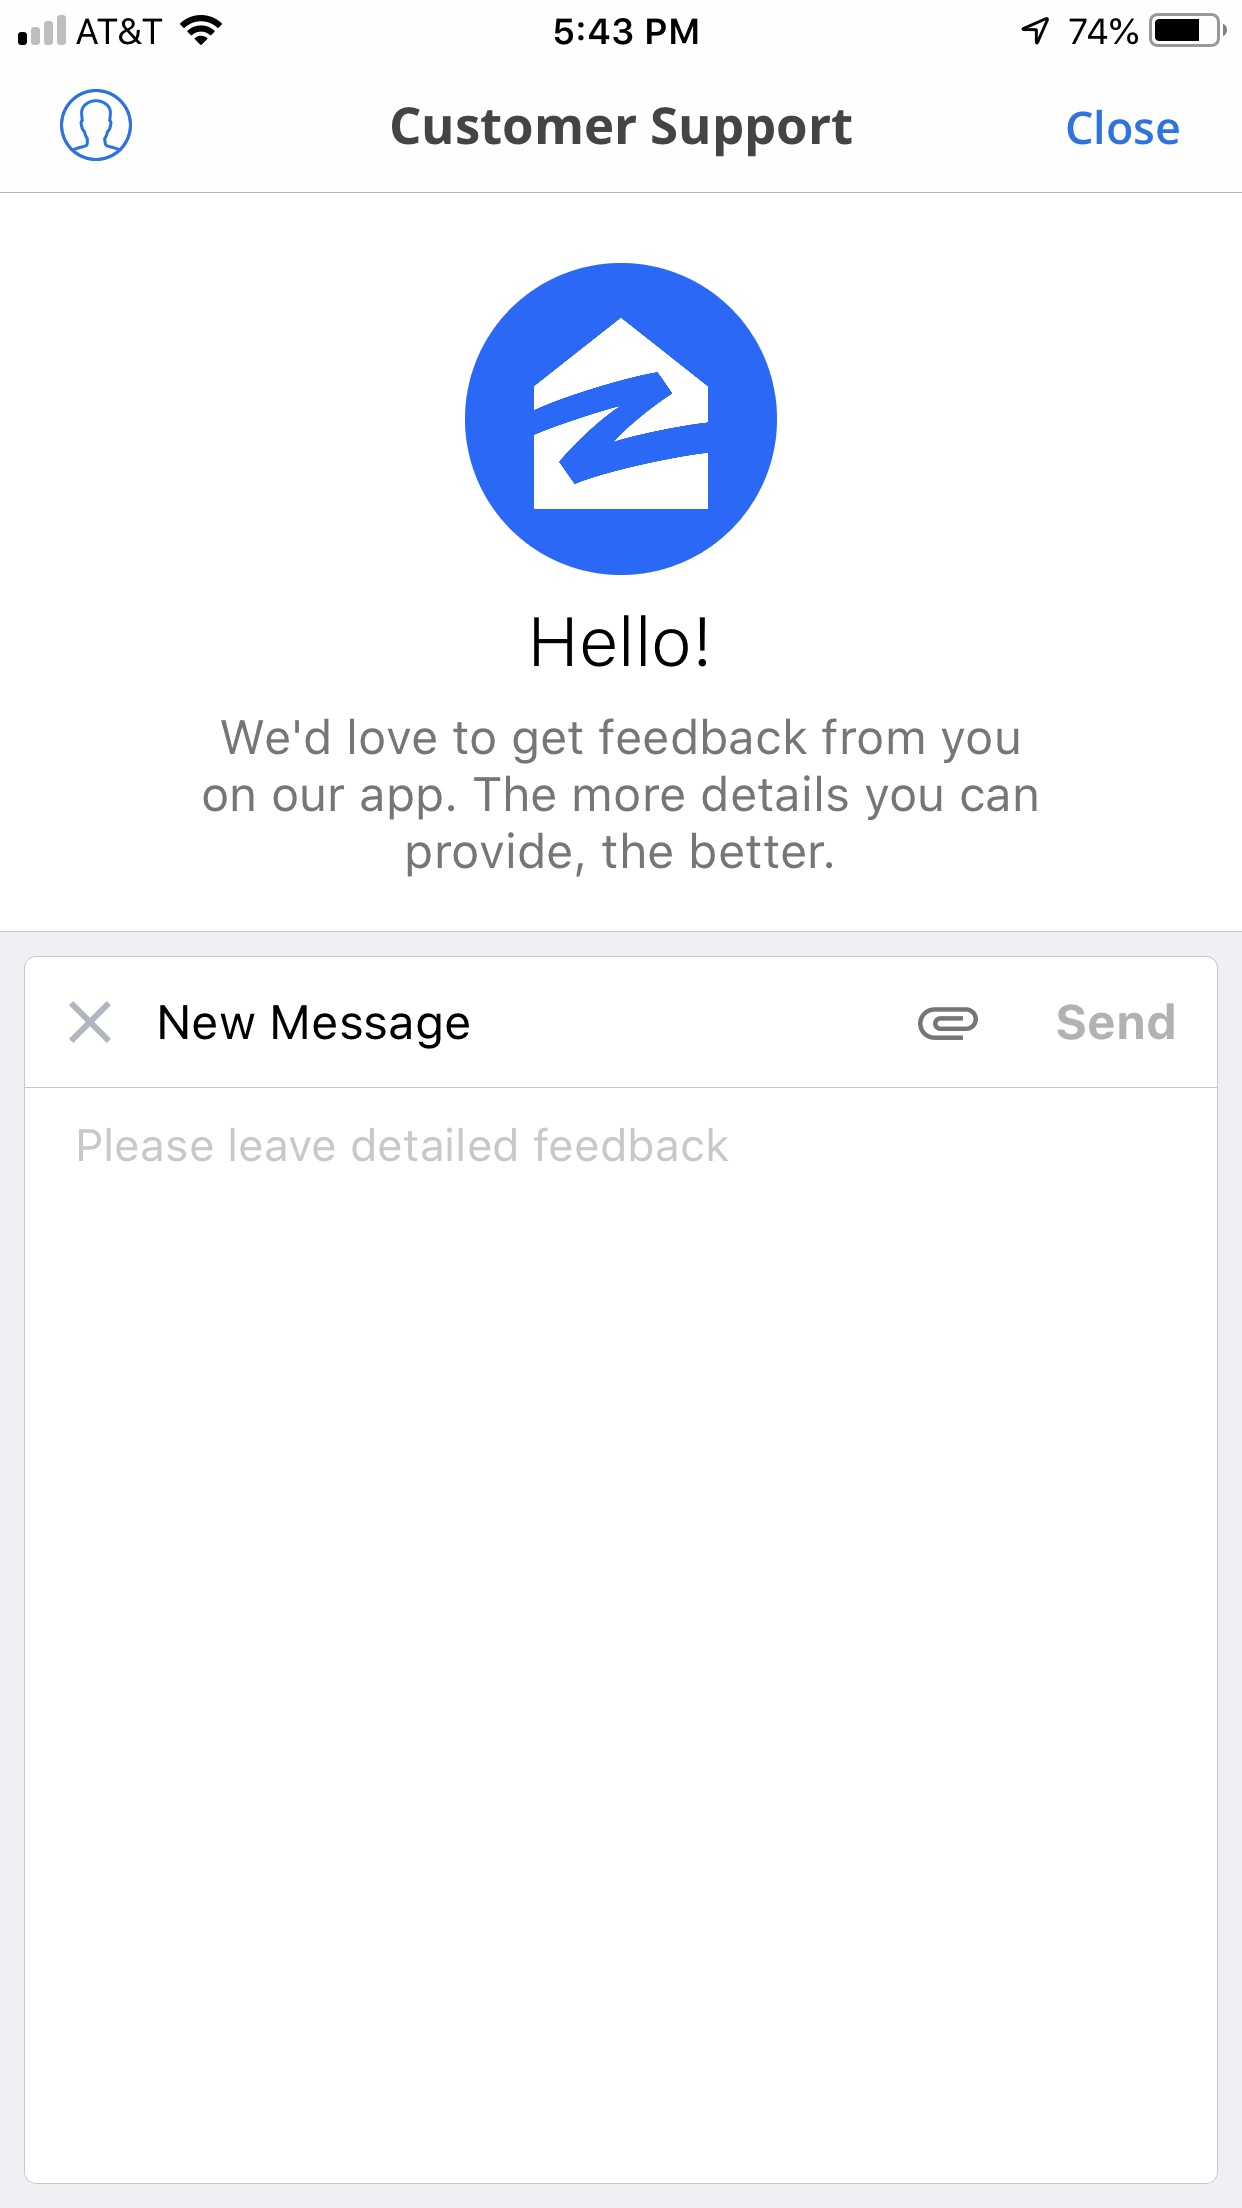Icon: (61, 89, 133, 162), (70, 999, 112, 1043)
Image: (464, 262, 778, 576), (917, 1005, 980, 1040)
Text: (205, 717, 1037, 878), (391, 108, 852, 159), (79, 1127, 729, 1163), (161, 1004, 470, 1049), (532, 614, 707, 667), (1059, 1002, 1175, 1040), (1066, 111, 1180, 147)
UpperTaskBar: (2, 2, 1242, 49)
